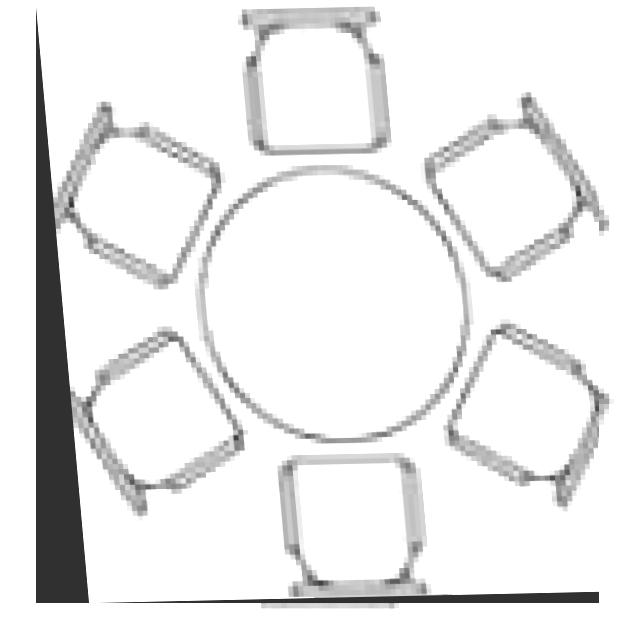table: (36, 6, 599, 604)
